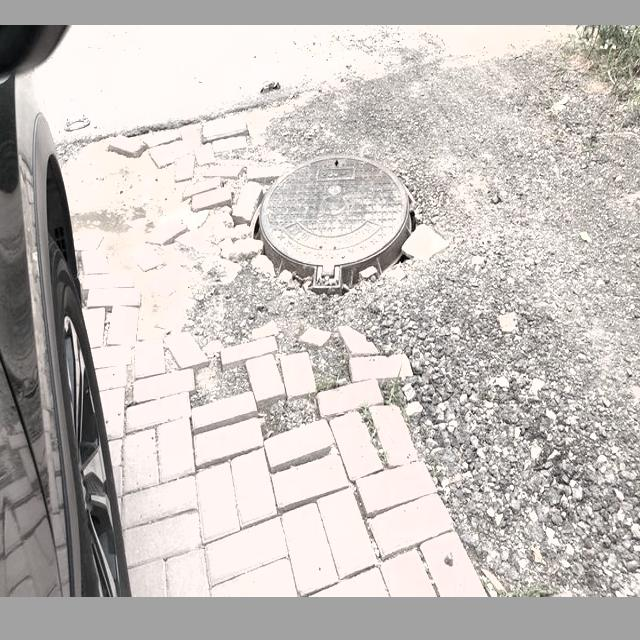circle: (197, 113, 463, 341)
